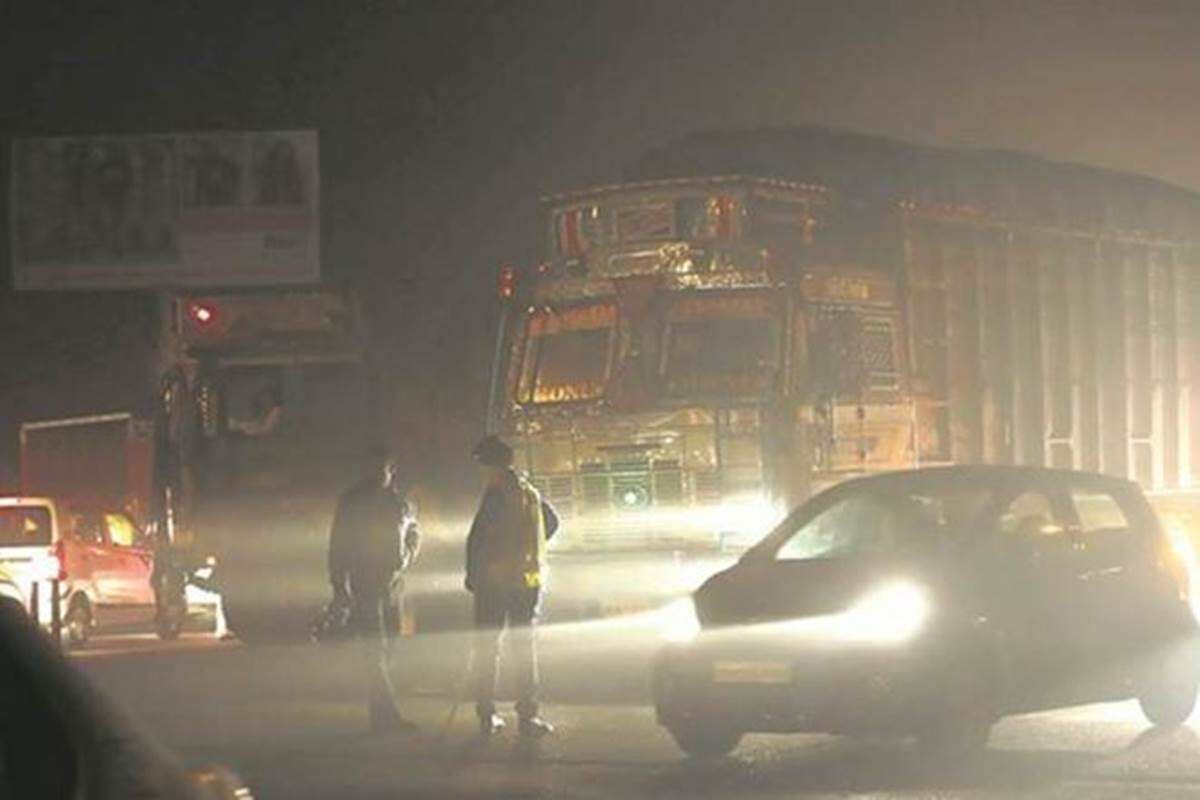car: (660, 466, 1191, 771), (3, 496, 179, 664)
truck: (519, 194, 913, 597), (166, 298, 424, 645)
